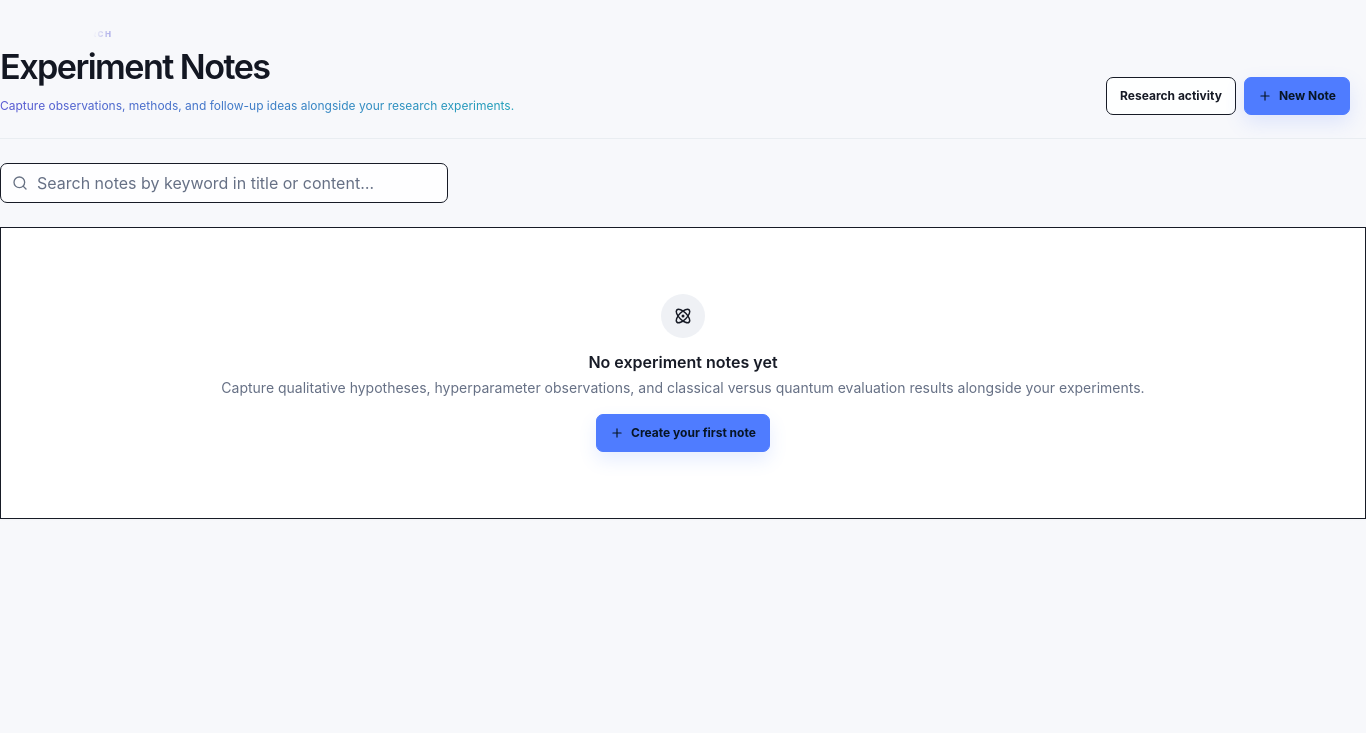
Scenario: Experiment Notes UI — Note Creation & Validation › shows validation errors when submitting empty required fields
Expected: the heading "No experiment notes yet" is shown, x1=588 y1=352 x2=778 y2=372
Click New Note
Click the button "New Note": {"x": 1297, "y": 96} x1=1244 y1=77 x2=1350 y2=115
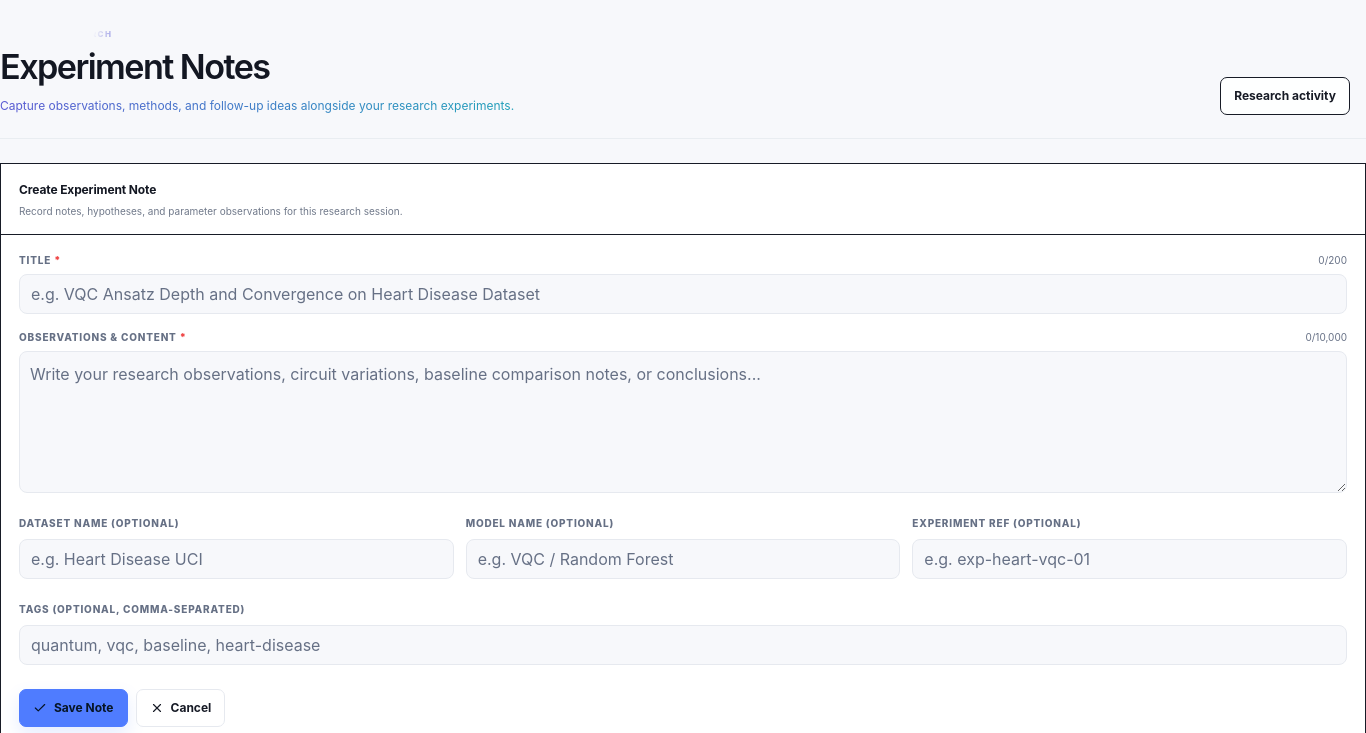
Expected: the heading "Create Experiment Note" is shown, x1=19 y1=182 x2=156 y2=197
Submit empty form
Click the button "Save Note": {"x": 73, "y": 708} x1=19 y1=689 x2=128 y2=727
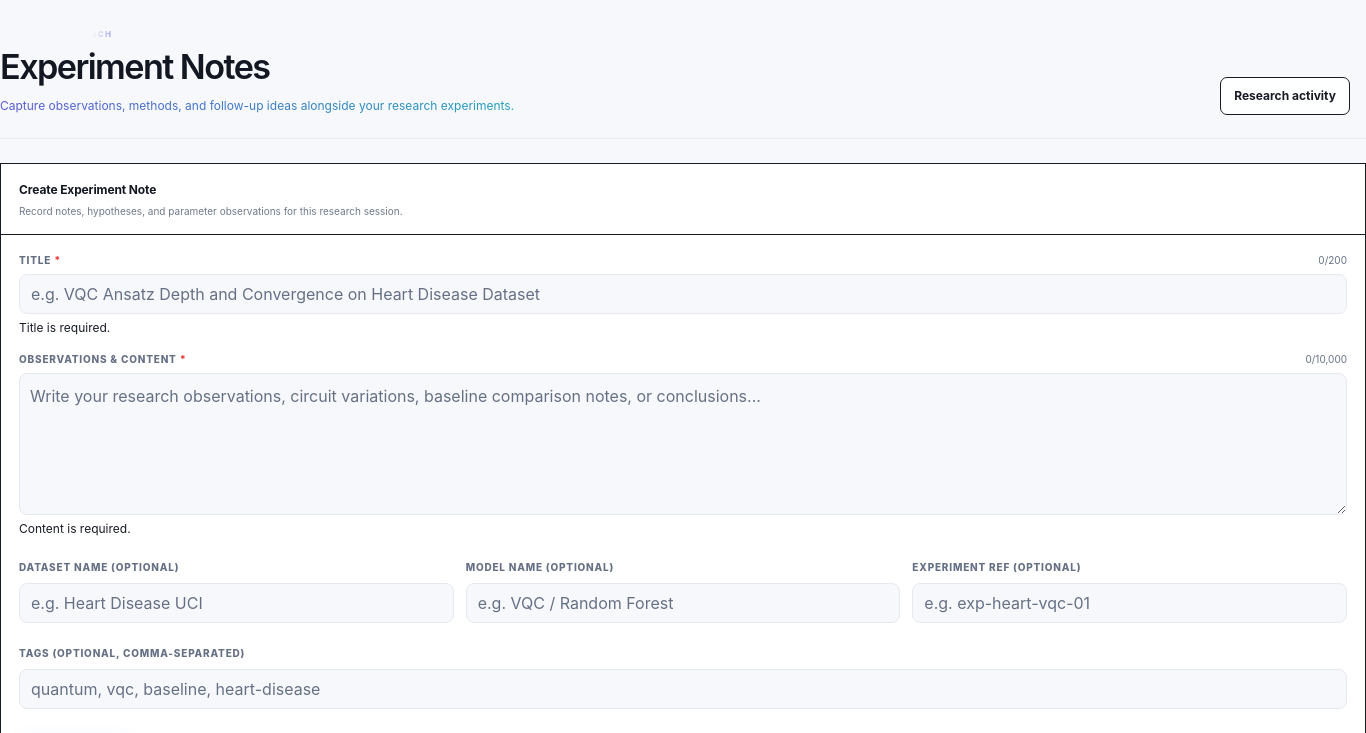
Expected: the text "Title is required." is shown, x1=19 y1=320 x2=110 y2=335
Expected: the text "Content is required." is shown, x1=19 y1=521 x2=131 y2=536
